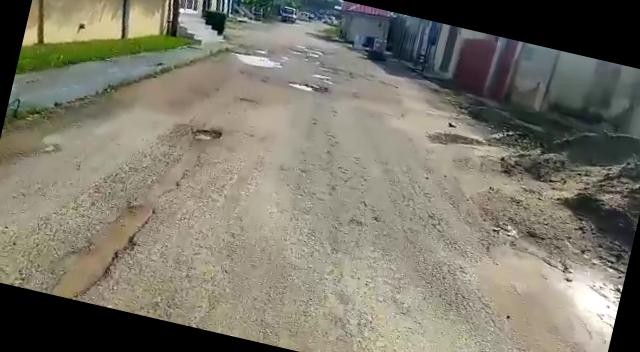pothole: (232, 47, 282, 72), (190, 124, 223, 145), (287, 78, 323, 94)
